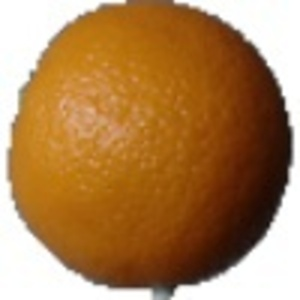laranja: (5, 3, 294, 292)
